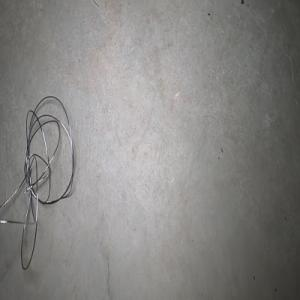Wire: (0, 96, 74, 270)
